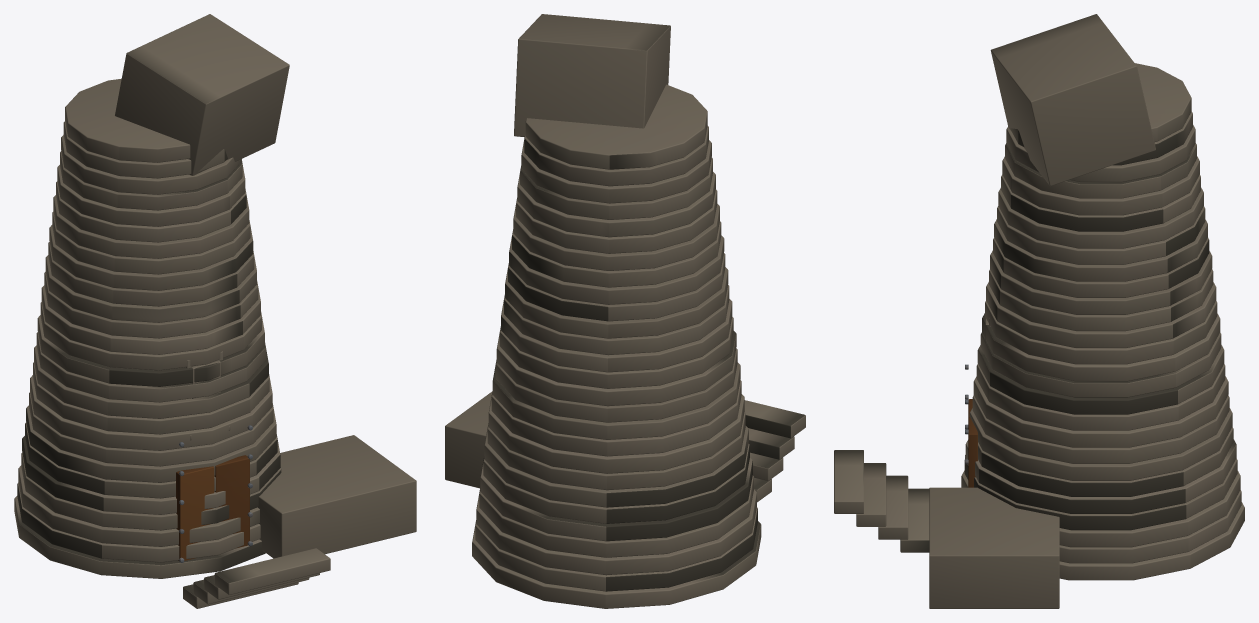
The model's file is building_church_scorched_tower.fbx.
3 views of the same model, side by side, from view 1: azimuth 30°, elevation 25°; view 2: azimuth 150°, elevation 25°; view 3: azimuth 270°, elevation 25° (orthographic). The views are drawn at different scales.
Visible parts, largest first — view 1: building_church_scorched_tower; view 2: building_church_scorched_tower; view 3: building_church_scorched_tower.
Part boxes in pixels (box(x1,y1,x2,y2)): building_church_scorched_tower: box(14, 14, 416, 608); building_church_scorched_tower: box(445, 14, 805, 608); building_church_scorched_tower: box(834, 14, 1244, 608).
Bounding box in the file's own units: 4.55 × 6.98 × 5.2.
